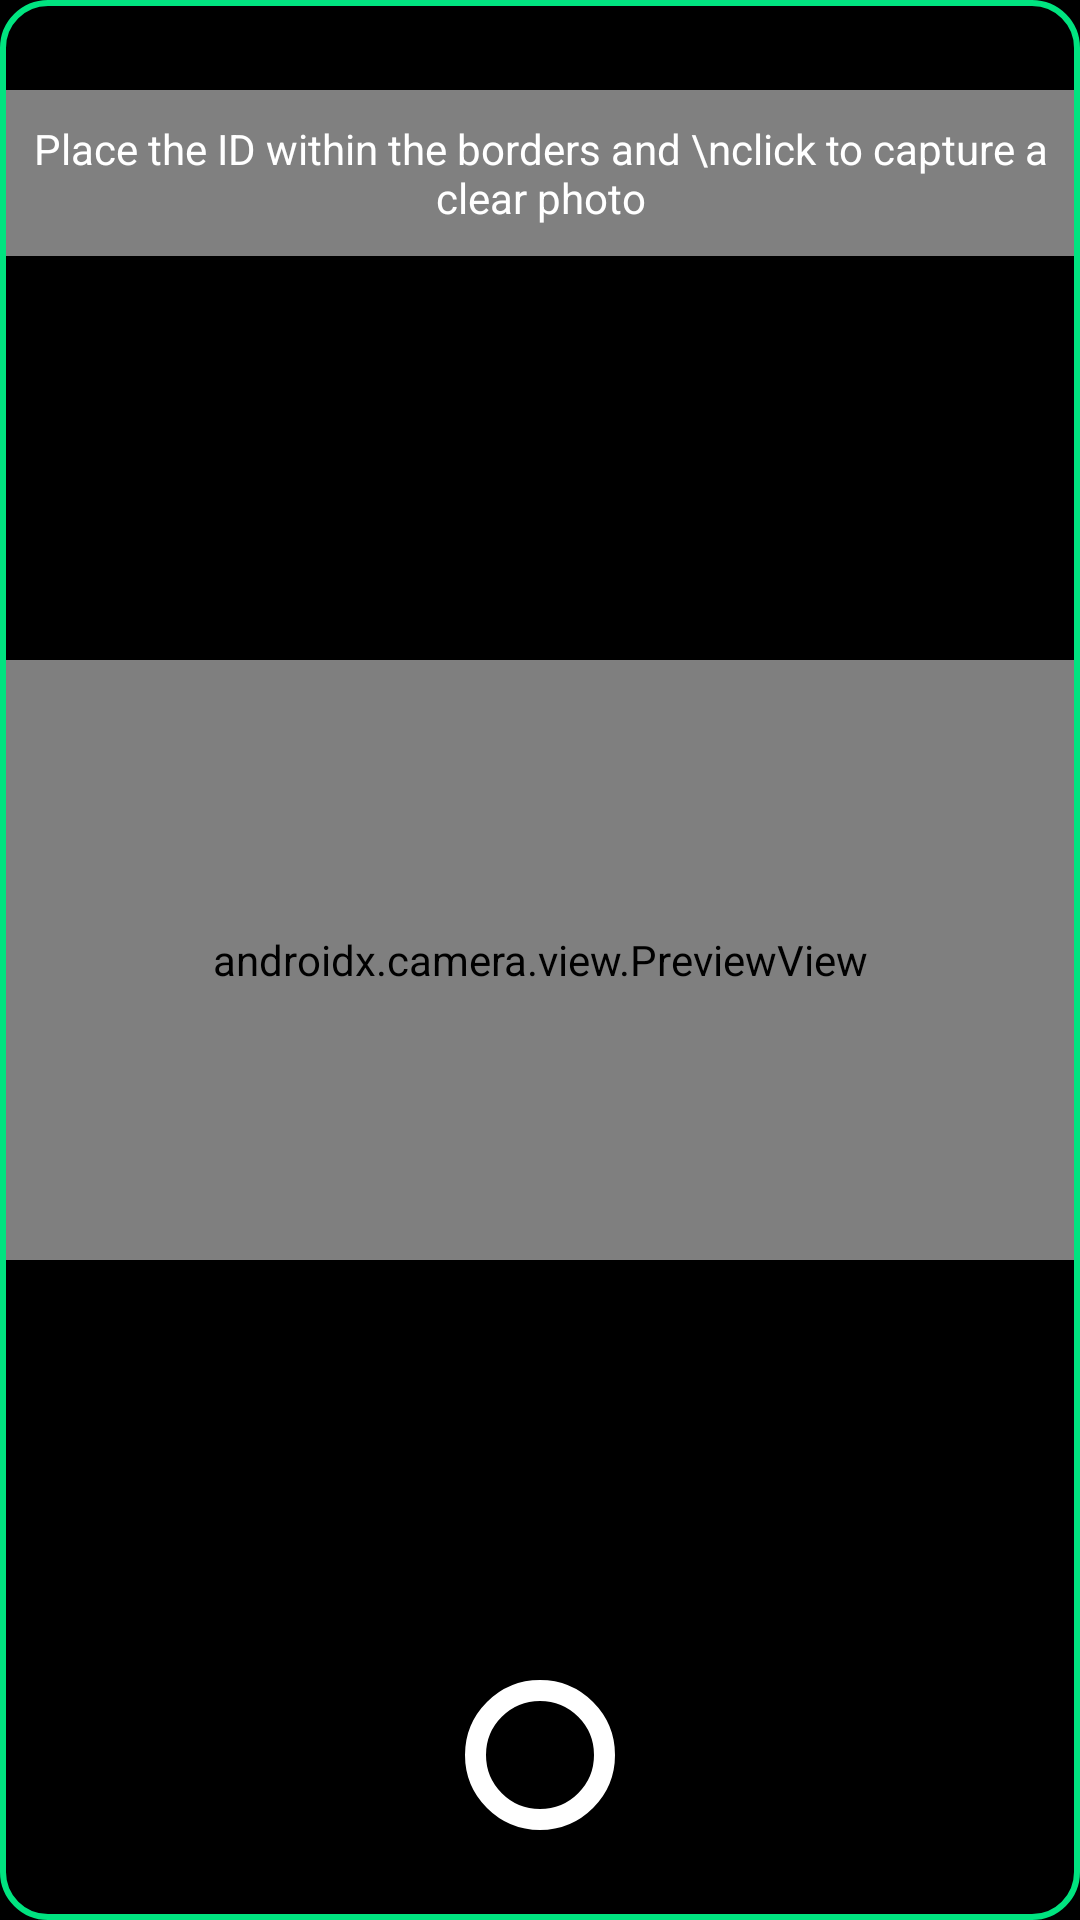

Screen size 1080px×1920px. Icon name, then its box in pixels as (x1, y1, x2, y2):
circle: (465, 1680, 615, 1830)
